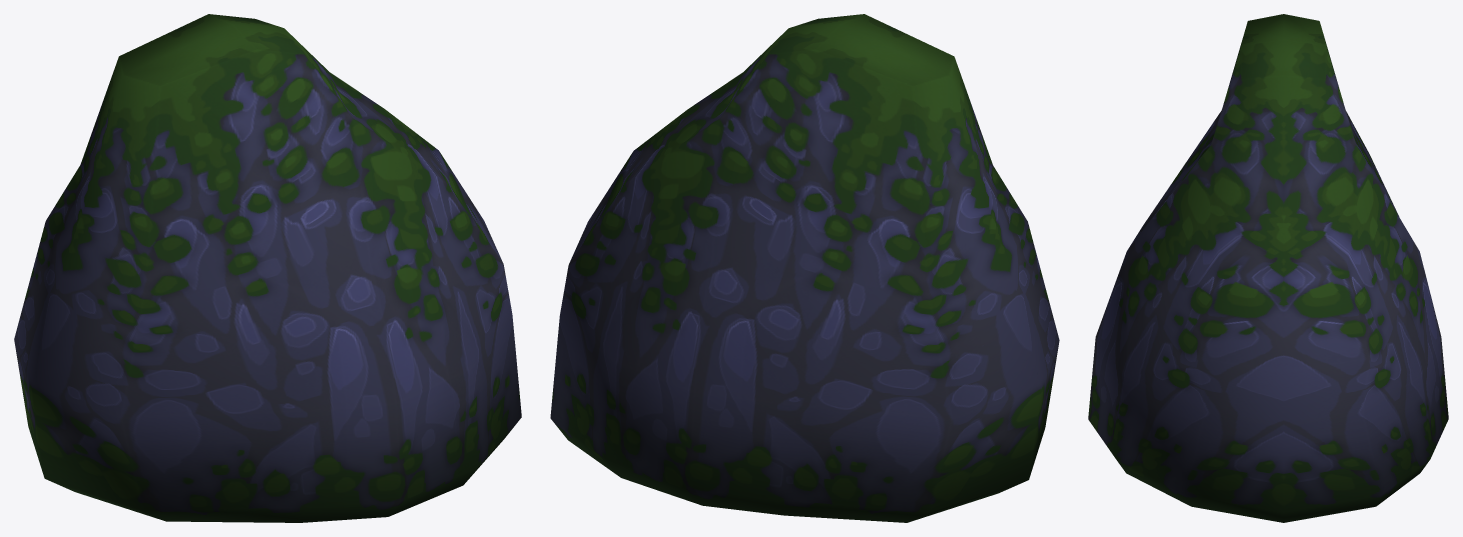
File: Rock_04c.FBX
The picture shows the model from 3 angles, left to right: view 1: azimuth 30°, elevation 25°; view 2: azimuth 150°, elevation 25°; view 3: azimuth 270°, elevation 25°; orthographic projection. The views are drawn at different scales.
Visible parts, largest first — view 1: Rock_04c; view 2: Rock_04c; view 3: Rock_04c.
Boxes of the visible parts, left/top/right/bottom form: Rock_04c: left=14, top=14, right=521, bottom=522; Rock_04c: left=550, top=14, right=1059, bottom=522; Rock_04c: left=1088, top=14, right=1448, bottom=522.
Bounding box in the file's own units: 140 × 120 × 105.
